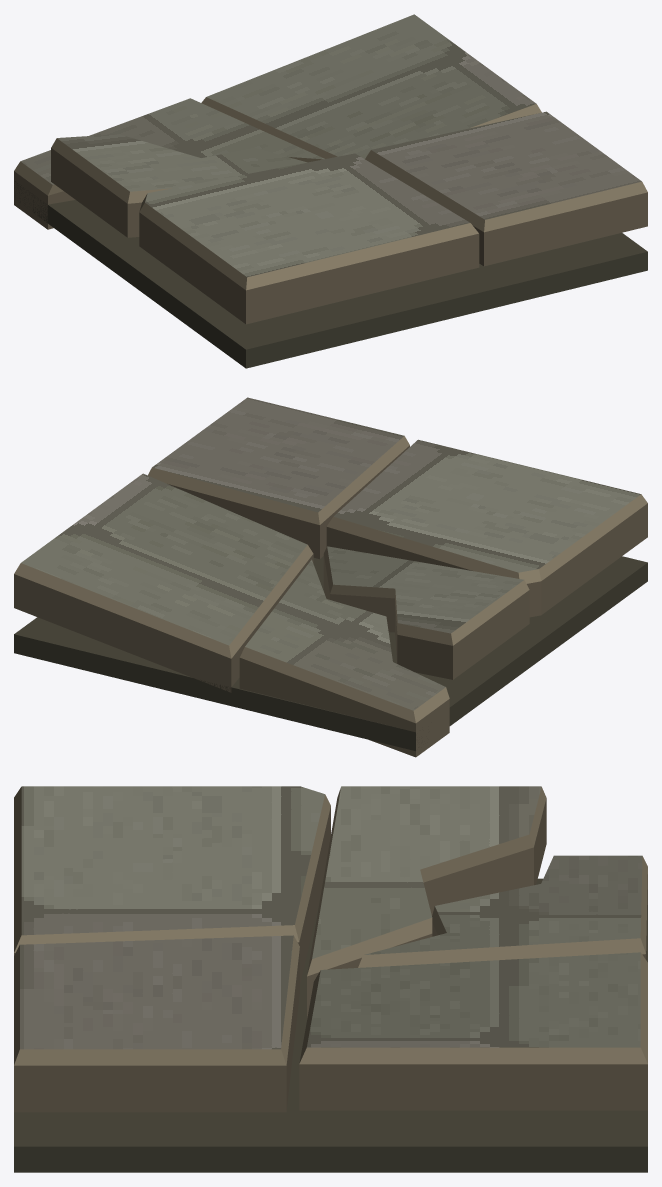
File: heaved_paving.glb
The picture shows the model from 3 angles, top to bottom: view 1: azimuth 30°, elevation 25°; view 2: azimuth 150°, elevation 25°; view 3: azimuth 270°, elevation 25°; orthographic projection. The views are drawn at different scales.
Parts seen in each view (by area): view 1: Heaved paving; view 2: Heaved paving; view 3: Heaved paving.
Part boxes in pixels (x1=…): Heaved paving: x1=14, y1=14, x2=647, y2=368; Heaved paving: x1=14, y1=397, x2=647, y2=757; Heaved paving: x1=14, y1=786, x2=647, y2=1172.
Size of the model in its own units: 1 by 0.2272 by 1.
Materials: 4 (1 with a texture image).
